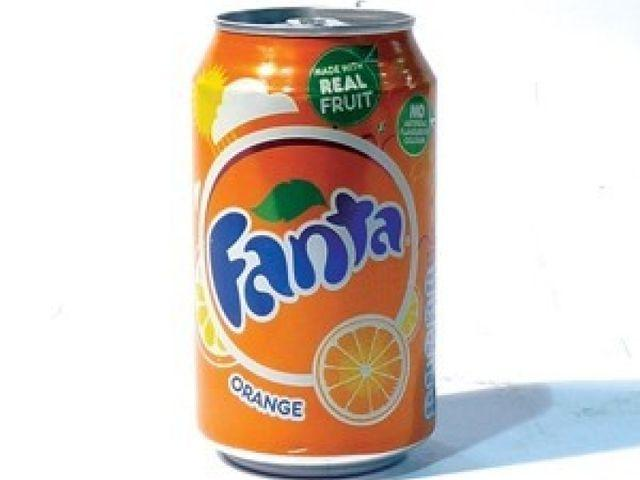metal: (193, 6, 436, 476)
